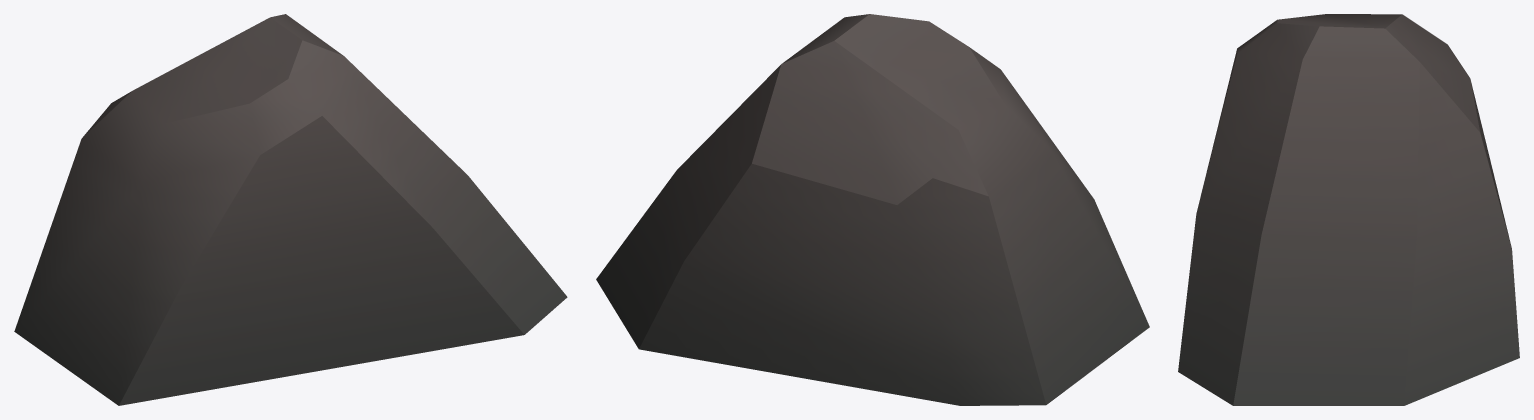
Rendered from MixedBag1.fbx.
3 renders of one model, left to right at view 1: azimuth 30°, elevation 25°; view 2: azimuth 150°, elevation 25°; view 3: azimuth 270°, elevation 25°, orthographic. The views are drawn at different scales.
Parts seen in each view (by area): view 1: MixedBag1_LOD0; view 2: MixedBag1_LOD0; view 3: MixedBag1_LOD0.
Boxes of the visible parts, x1,y1,x2,y2 form: MixedBag1_LOD0: [14, 14, 567, 405]; MixedBag1_LOD0: [596, 14, 1149, 405]; MixedBag1_LOD0: [1178, 14, 1519, 405].
Size of what is drawn, in the model's own units: 2.78 by 1.64 by 1.86.
